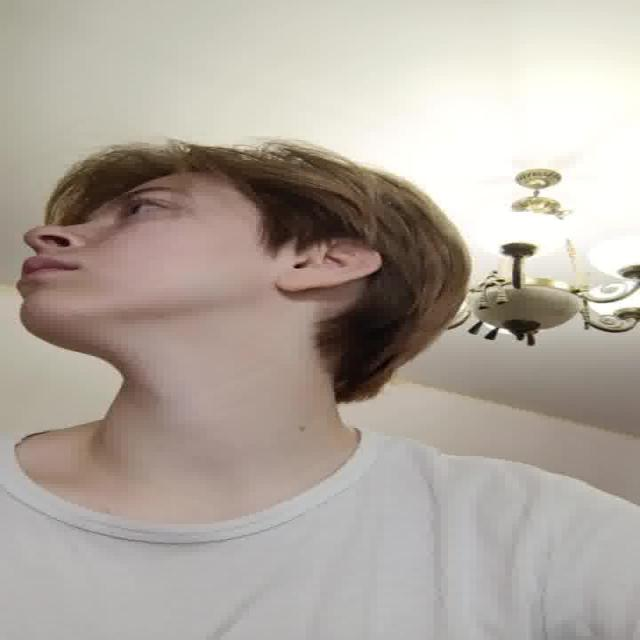earlobe: (275, 266, 326, 292)
eye: (117, 202, 173, 220)
nose: (23, 240, 79, 264)
wholeear: (275, 231, 381, 292)
